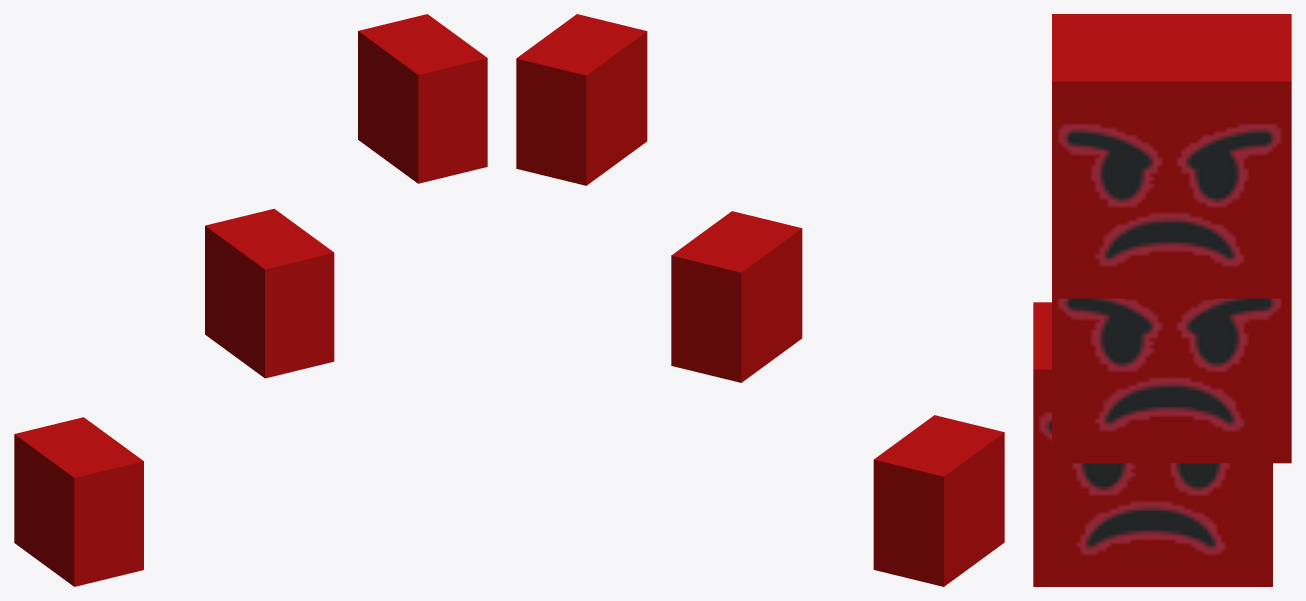
Rendered from Enemies.fbx.
The picture shows the model from 3 angles, left to right: view 1: azimuth 30°, elevation 25°; view 2: azimuth 150°, elevation 25°; view 3: azimuth 270°, elevation 25°; orthographic projection. The views are drawn at different scales.
Parts seen in each view (by area): view 1: Enemy1, Enemy2, Enemy3; view 2: Enemy1, Enemy2, Enemy3; view 3: Enemy3, Enemy1, Enemy2.
Boxes of the visible parts, box(x1,y1,x2,y2) form: Enemy1: box(205, 208, 334, 378); Enemy2: box(14, 417, 143, 586); Enemy3: box(358, 14, 487, 183); Enemy1: box(671, 211, 802, 382); Enemy2: box(873, 415, 1004, 586); Enemy3: box(516, 14, 647, 185); Enemy3: box(1052, 14, 1291, 298); Enemy1: box(1052, 298, 1291, 463); Enemy2: box(1033, 302, 1272, 586).
Size of what is drawn, in the model's own units: 18.07 by 17.5 by 4.85.
